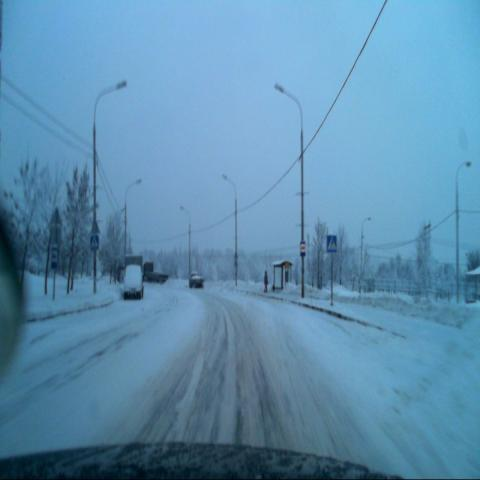5_16: (51, 244, 59, 269), (299, 239, 306, 257)
5_19_1: (326, 234, 338, 254), (89, 232, 100, 251)
